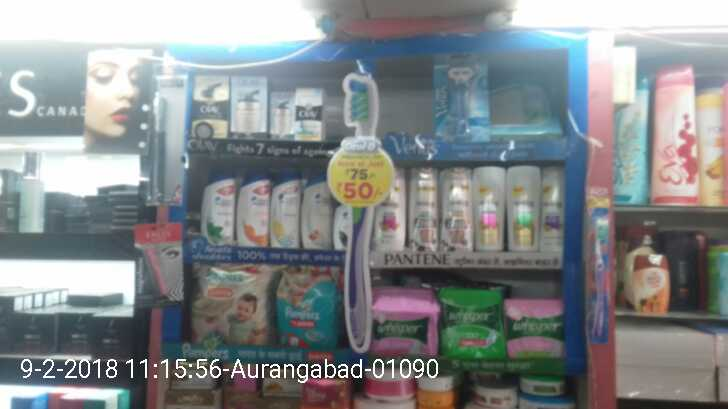venus: (435, 58, 487, 137)
